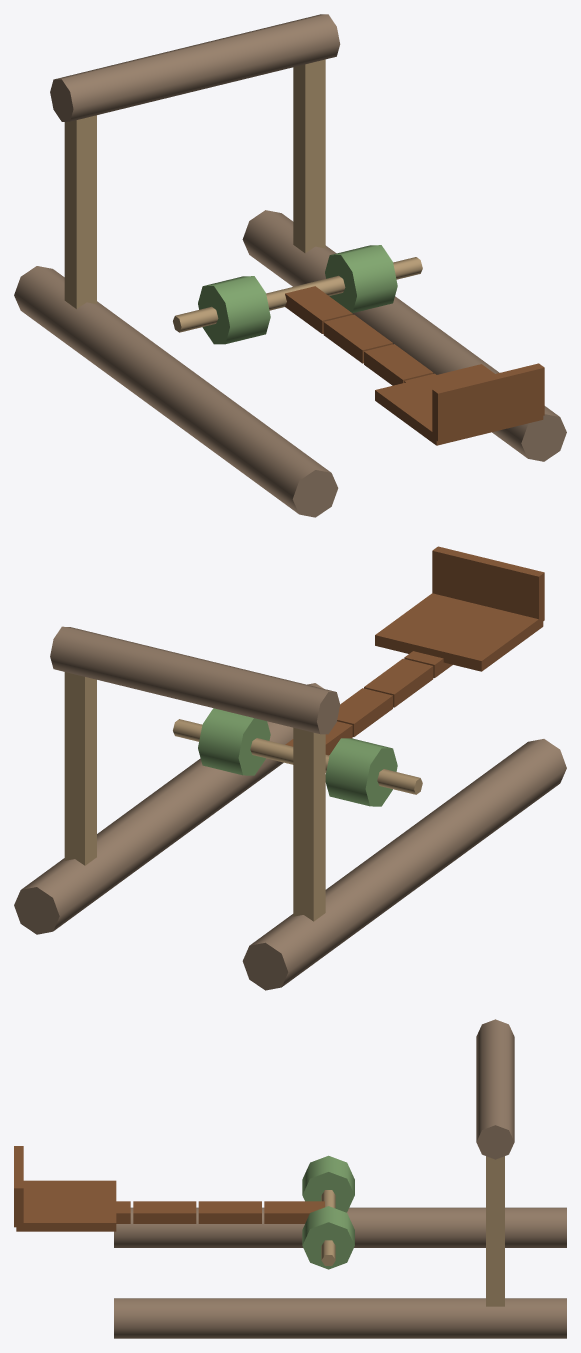
File: build_catapult.glb
3 views of the same model, one above another, from view 1: azimuth 30°, elevation 25°; view 2: azimuth 150°, elevation 25°; view 3: azimuth 270°, elevation 25° (orthographic). The views are drawn at different scales.
Visible parts, largest first — view 1: Baked, _MeshInstance3D_215, _MeshInstance3D_214, _MeshInstance3D_211, _MeshInstance3D_212, _MeshInstance3D_210; view 2: Baked, _MeshInstance3D_214, _MeshInstance3D_215, _MeshInstance3D_212, _MeshInstance3D_211, _MeshInstance3D_210; view 3: Baked, _MeshInstance3D_214, _MeshInstance3D_211, _MeshInstance3D_212, _MeshInstance3D_210, _MeshInstance3D_215.
Boxes of the visible parts, x1,y1,x2,y2 form: Baked: (14, 14, 566, 517); _MeshInstance3D_215: (432, 363, 544, 441); _MeshInstance3D_214: (375, 364, 543, 445); _MeshInstance3D_211: (323, 314, 392, 363); _MeshInstance3D_212: (364, 344, 433, 385); _MeshInstance3D_210: (285, 286, 352, 333); Baked: (14, 626, 566, 990); _MeshInstance3D_214: (375, 593, 543, 671); _MeshInstance3D_215: (432, 546, 544, 621); _MeshInstance3D_212: (364, 658, 433, 707); _MeshInstance3D_211: (337, 688, 392, 736); _MeshInstance3D_210: (285, 721, 352, 755); Baked: (114, 1019, 566, 1338); _MeshInstance3D_214: (16, 1180, 116, 1231); _MeshInstance3D_211: (198, 1201, 261, 1223); _MeshInstance3D_212: (133, 1201, 196, 1223); _MeshInstance3D_210: (264, 1201, 324, 1223); _MeshInstance3D_215: (14, 1146, 23, 1227).
Size of the model in its own units: 1.08 by 1.02 by 2.32.
